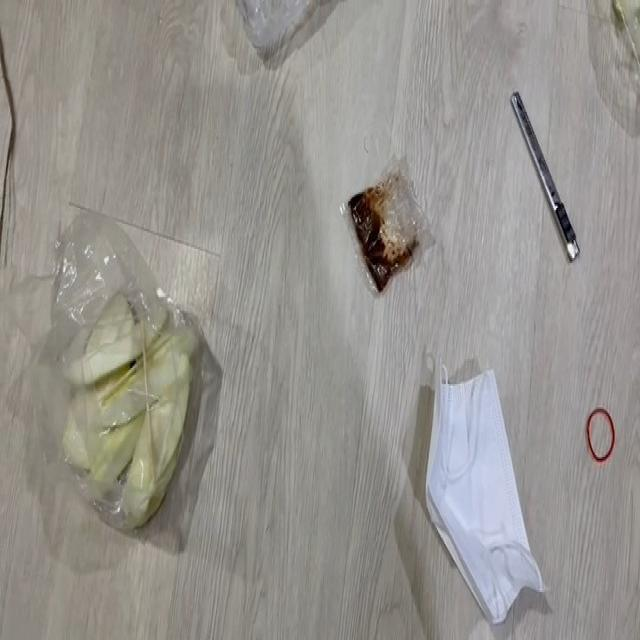Anorganik: (501, 86, 606, 266), (225, 0, 326, 69), (578, 400, 617, 460)
B3: (38, 294, 198, 543), (421, 353, 556, 625), (337, 138, 438, 302), (0, 0, 26, 267)
